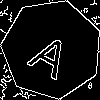A: (27, 24, 80, 81)
